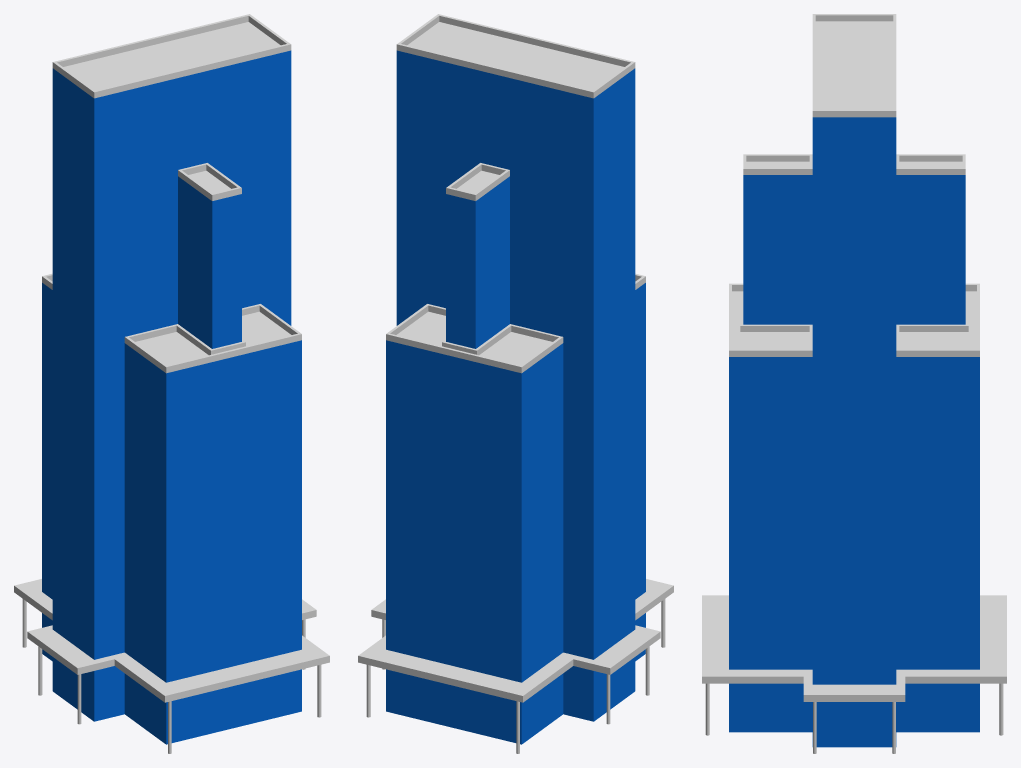
File: OFFICE.fbx
3 views of the same model, side by side, from view 1: azimuth 30°, elevation 25°; view 2: azimuth 150°, elevation 25°; view 3: azimuth 270°, elevation 25° (orthographic).
Parts seen in each view (by area): view 1: Cube.001; view 2: Cube.001; view 3: Cube.001.
Part boxes in pixels (x1,y1,x2,y2): Cube.001: [14, 14, 329, 744]; Cube.001: [358, 14, 673, 744]; Cube.001: [702, 14, 1006, 747].
Bounding box in the file's own units: 352 × 885 × 385.
